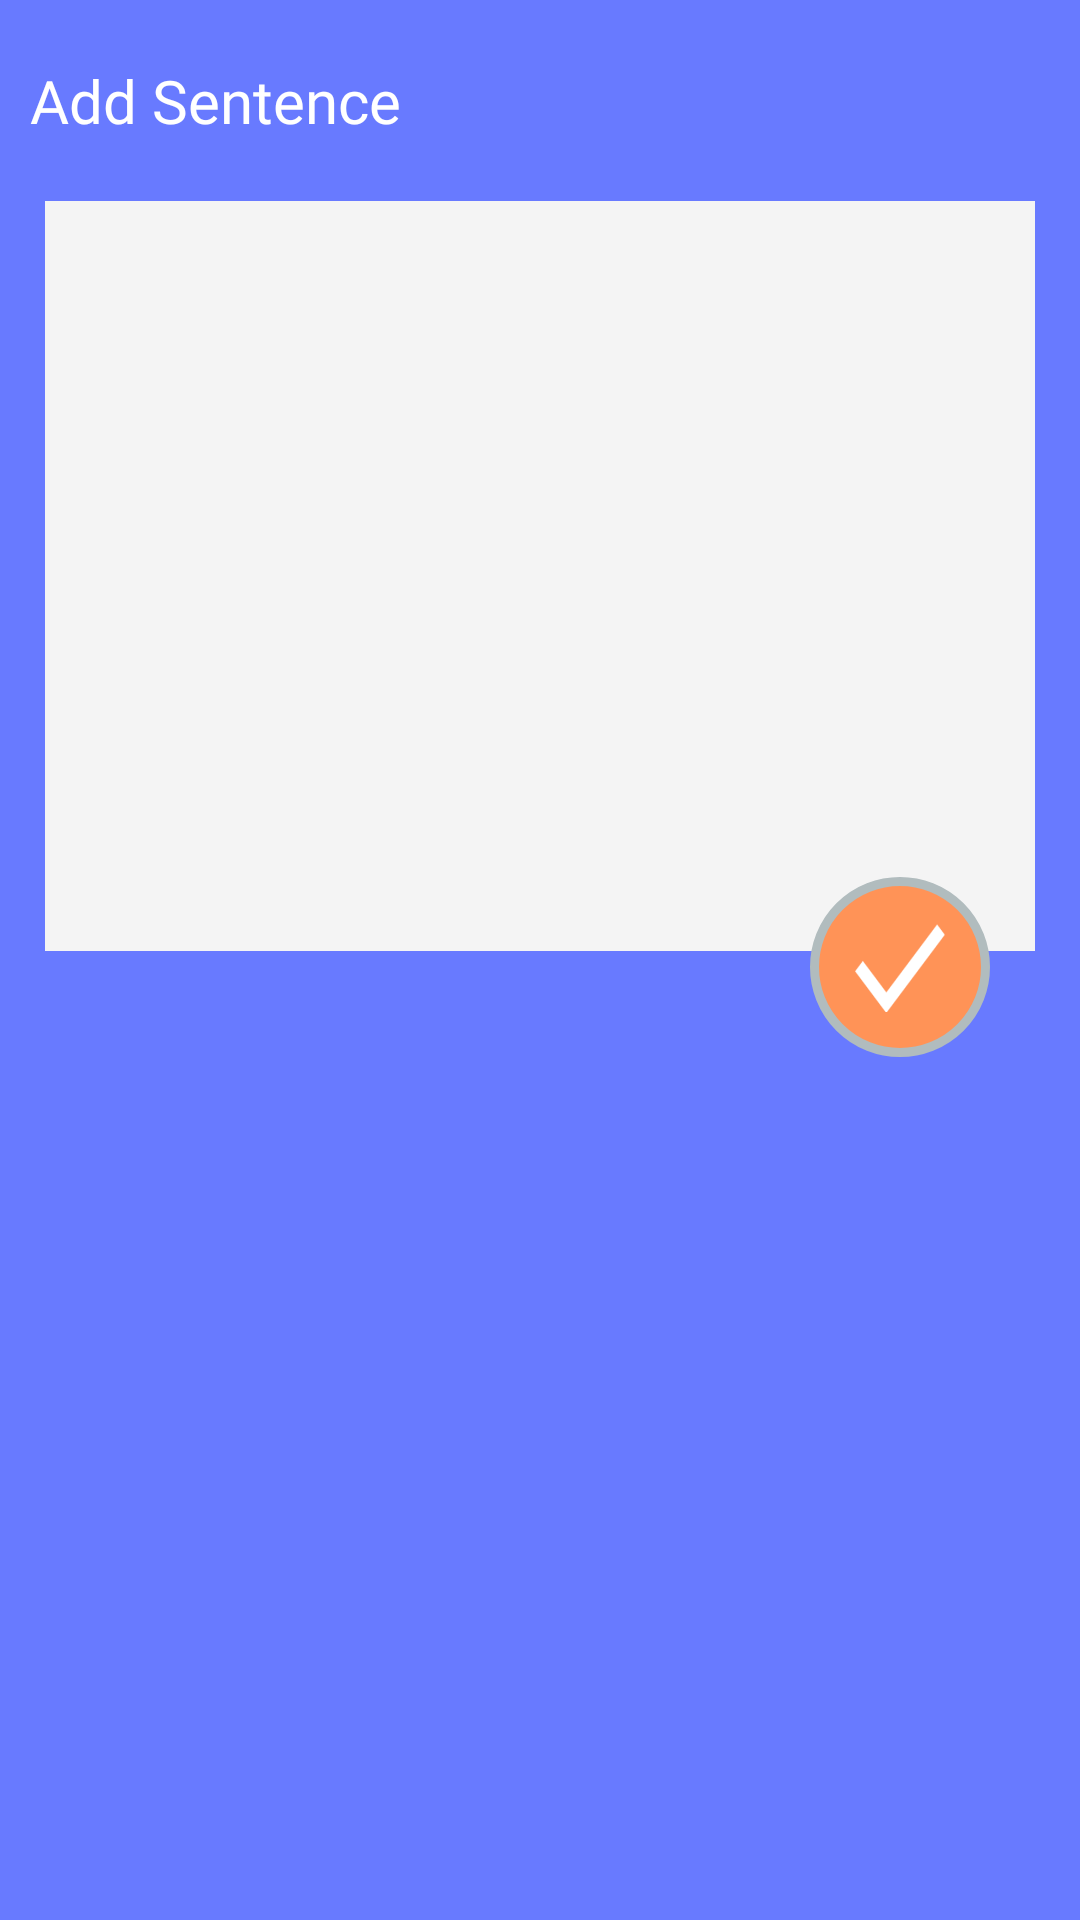

Where icons sit on this 1080*1920 app screen, as (x1, y1, x2, y2):
right: (855, 924, 945, 1012)
